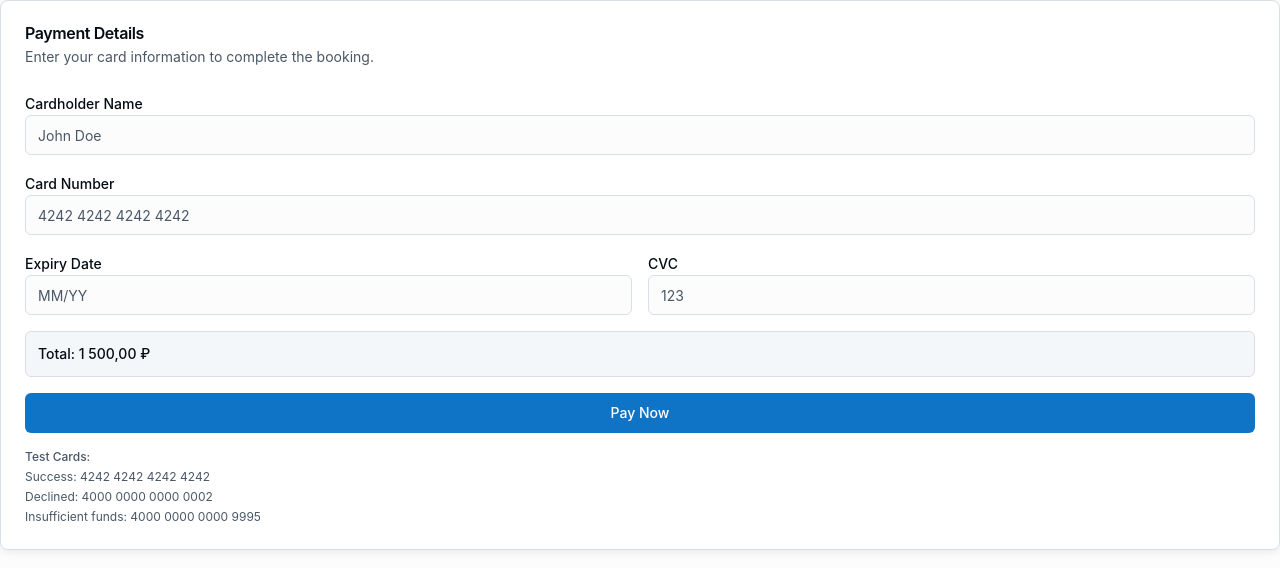
Test: PaymentForm › form validation › limits CVC to 4 digits
The width and height of the screenshot is (1280, 568).
Type "12345" into the field labelled "CVC" at (952, 295), box x1=648 y1=275 x2=1255 y2=315
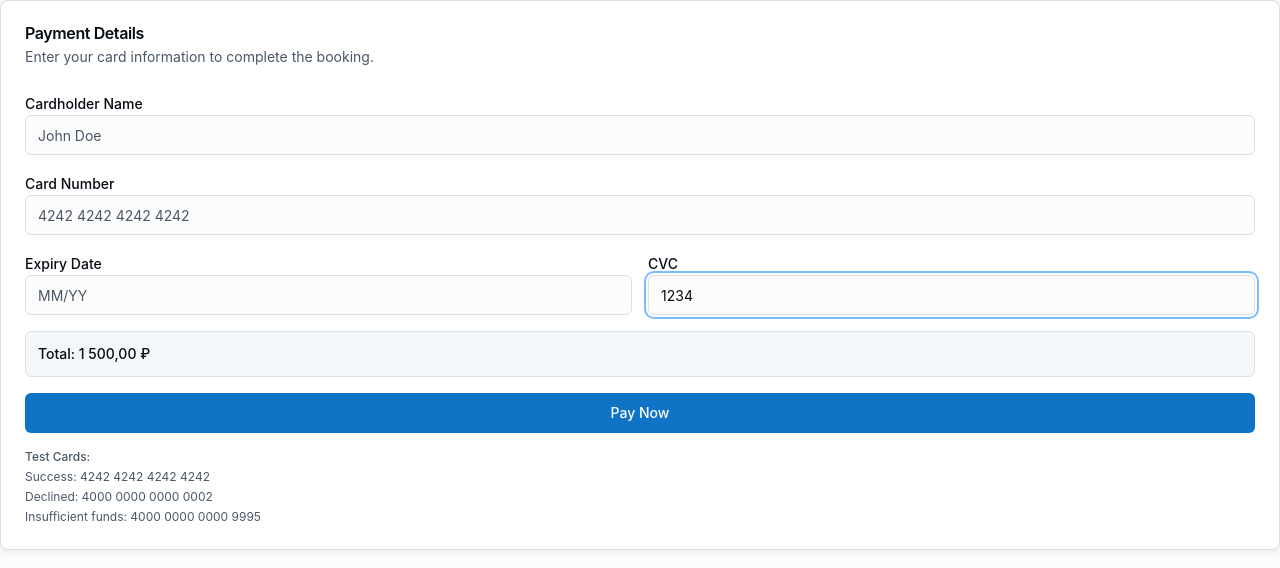
Expected: the field labelled "CVC" holds "1234", x1=648 y1=275 x2=1255 y2=315
